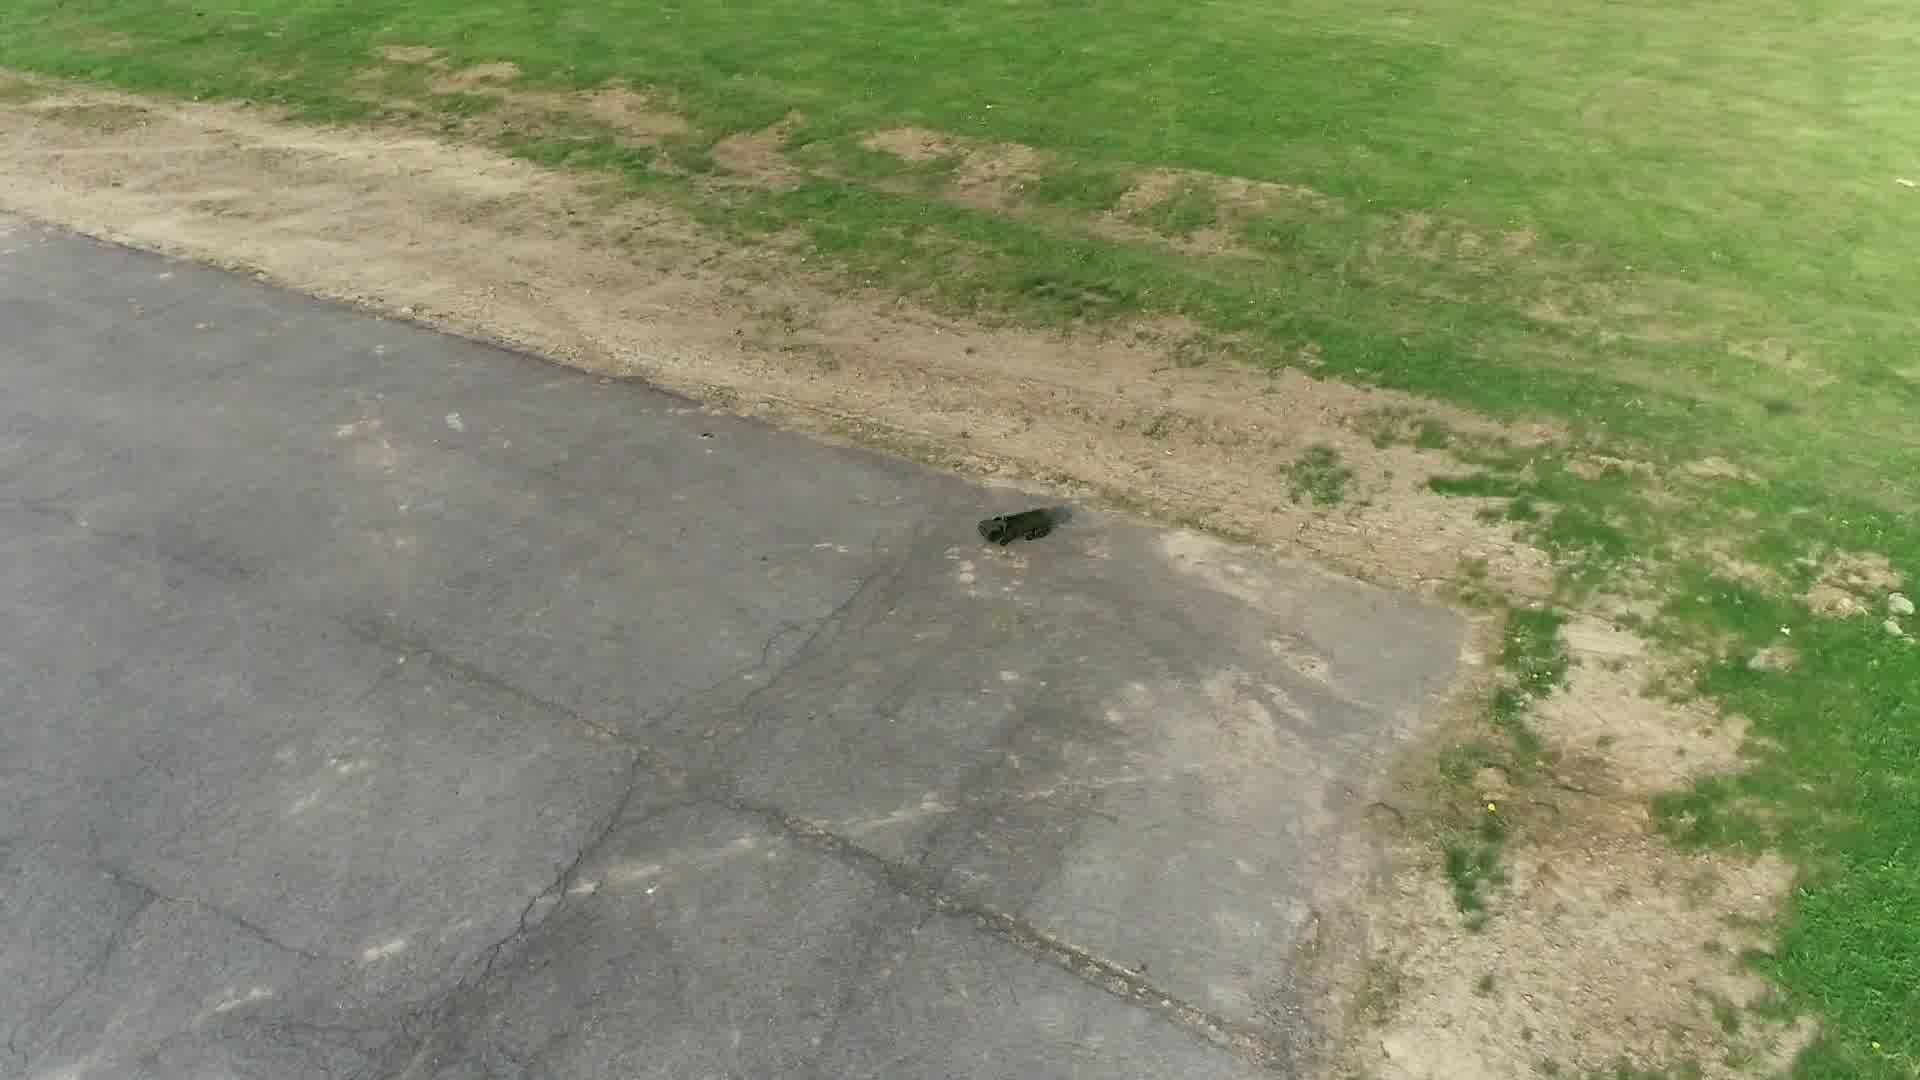transporter9: (975, 505, 1056, 549)
